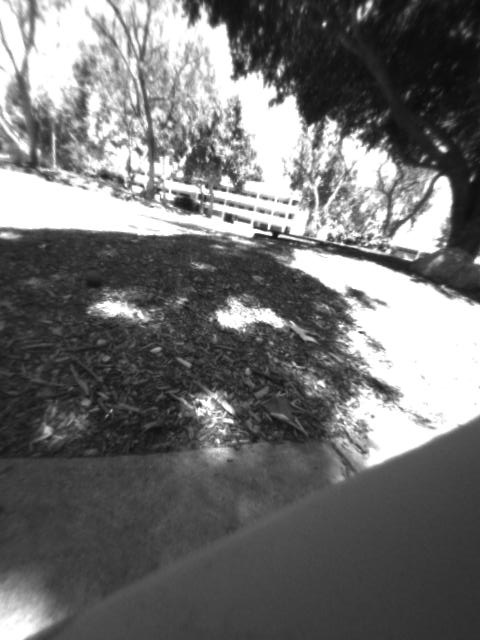dogtoy: (75, 266, 109, 292)
